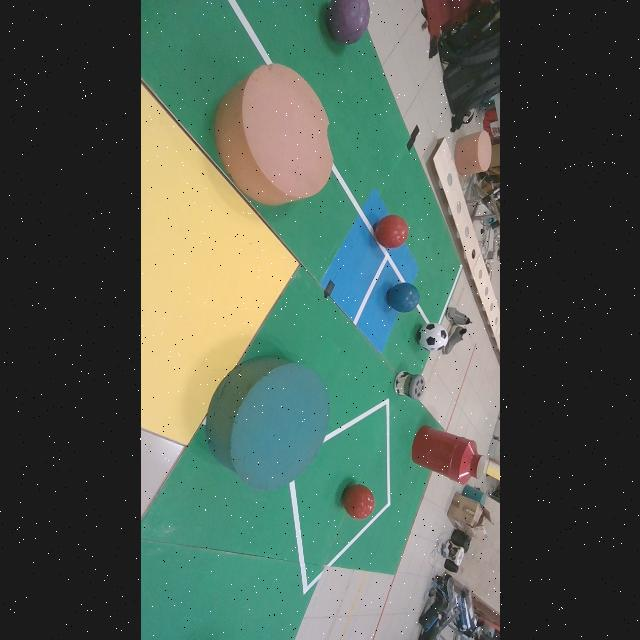B: (387, 283, 419, 313)
P: (328, 0, 369, 44)
R: (375, 214, 409, 248), (342, 485, 375, 520)
